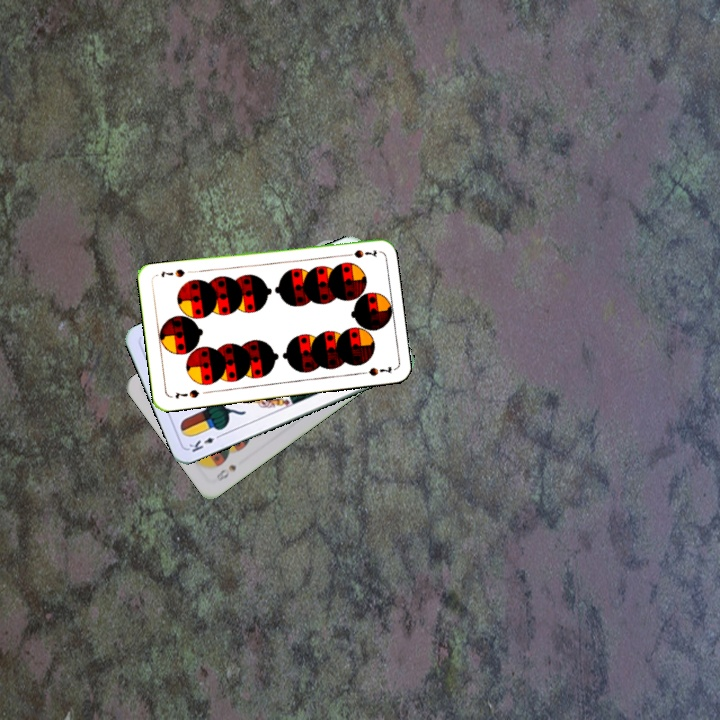EK: (185, 430, 225, 455)
S7: (339, 245, 379, 260), (171, 386, 202, 401)
S8: (212, 460, 239, 484)
